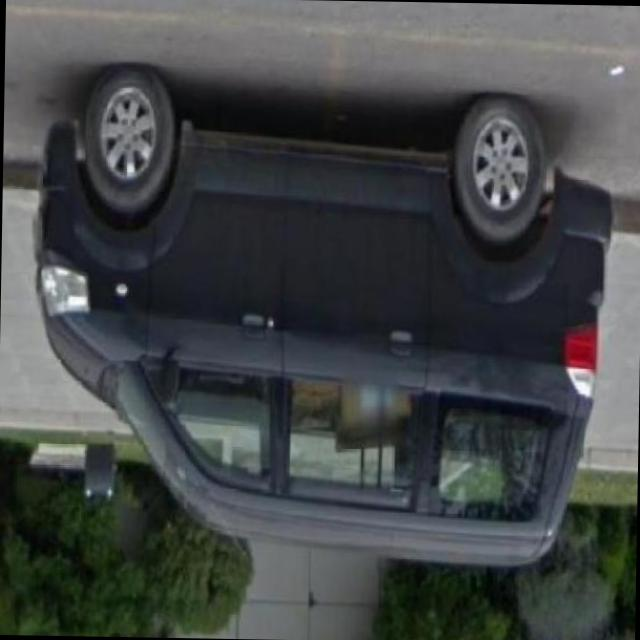car: (35, 69, 630, 562)
